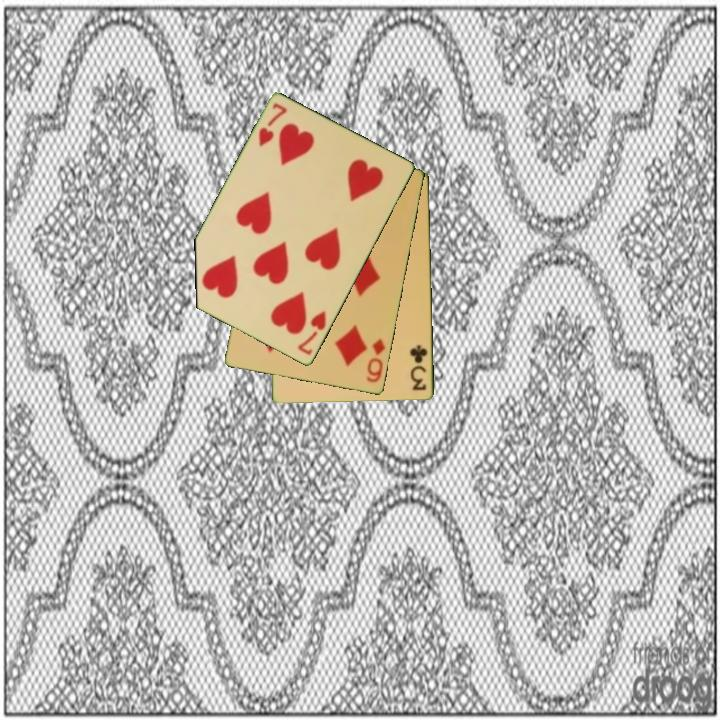3c: (407, 341, 431, 394)
6d: (363, 335, 389, 386)
7h: (294, 307, 329, 358), (255, 100, 290, 150)
